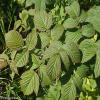Raspberry leaf: (21, 70, 40, 96), (4, 28, 23, 51), (34, 10, 53, 32), (63, 42, 82, 64), (41, 42, 63, 61), (38, 64, 54, 87), (46, 55, 60, 81), (12, 49, 30, 68), (36, 31, 50, 51), (73, 75, 87, 95), (25, 28, 37, 51), (65, 1, 81, 18), (62, 82, 77, 100), (81, 21, 98, 36), (50, 24, 65, 40), (27, 53, 40, 70), (77, 7, 88, 22), (64, 18, 78, 29)
